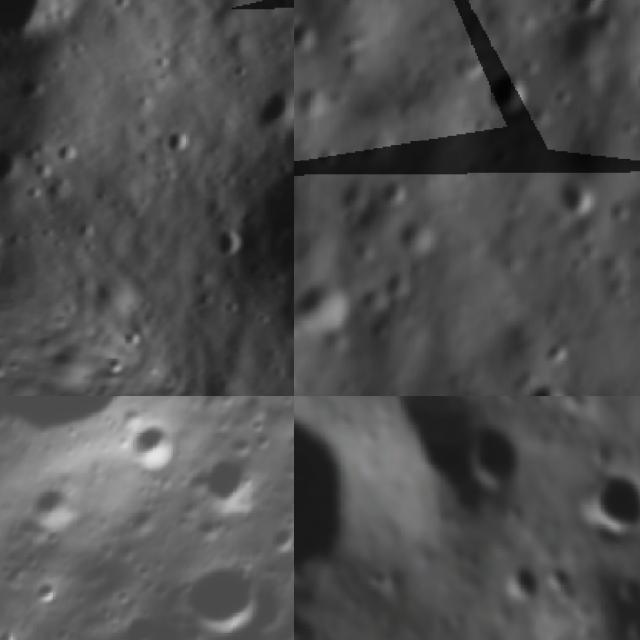crater: (294, 396, 385, 620), (206, 113, 294, 340), (381, 396, 505, 539), (0, 396, 190, 483), (168, 535, 288, 640), (0, 0, 104, 83), (459, 418, 537, 502), (571, 456, 640, 547), (191, 452, 263, 526), (124, 411, 195, 482), (294, 269, 354, 340), (149, 114, 207, 174), (242, 78, 294, 144), (498, 559, 554, 618), (479, 66, 539, 120), (23, 480, 77, 534), (22, 566, 76, 620), (202, 220, 254, 271), (556, 175, 600, 221), (368, 173, 418, 210), (294, 11, 331, 58), (562, 0, 619, 30), (540, 558, 578, 600), (0, 143, 29, 198), (525, 365, 576, 396), (115, 320, 152, 358), (612, 573, 640, 613), (363, 564, 398, 594), (294, 601, 318, 640)
